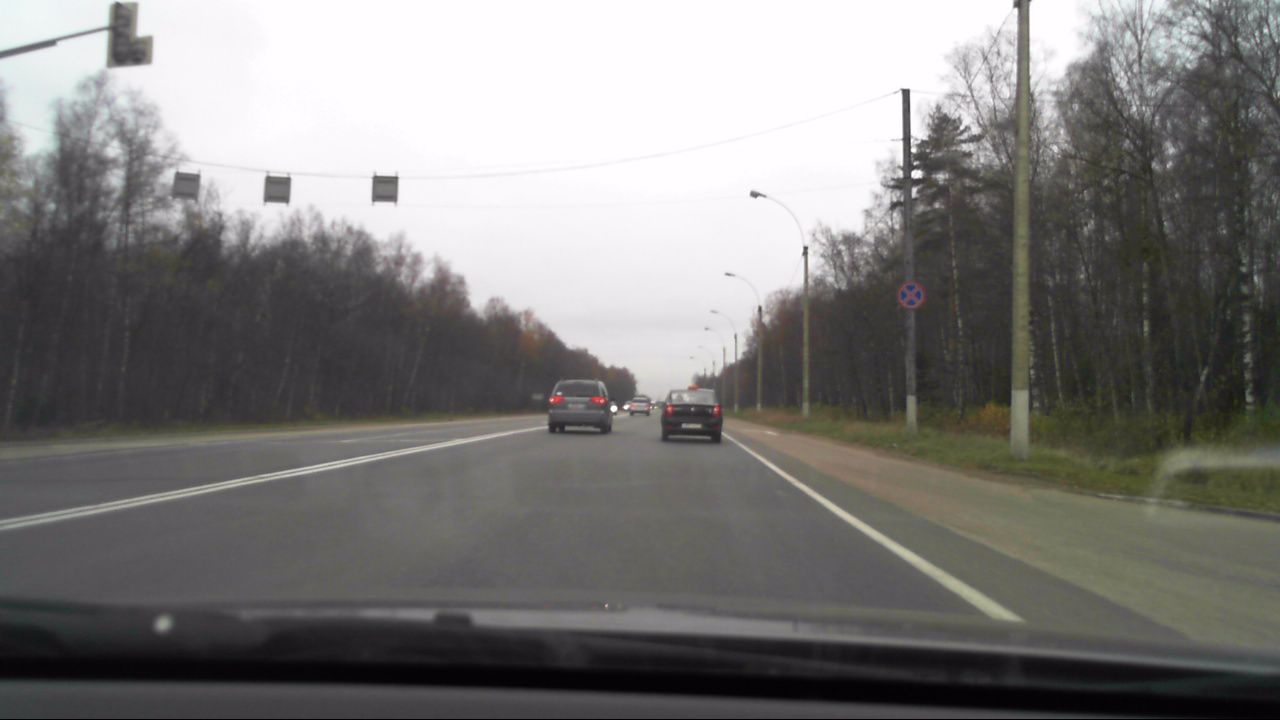No Parking: (896, 281, 924, 311)
